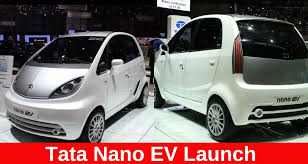Nano: (150, 14, 308, 140), (7, 32, 147, 142)
